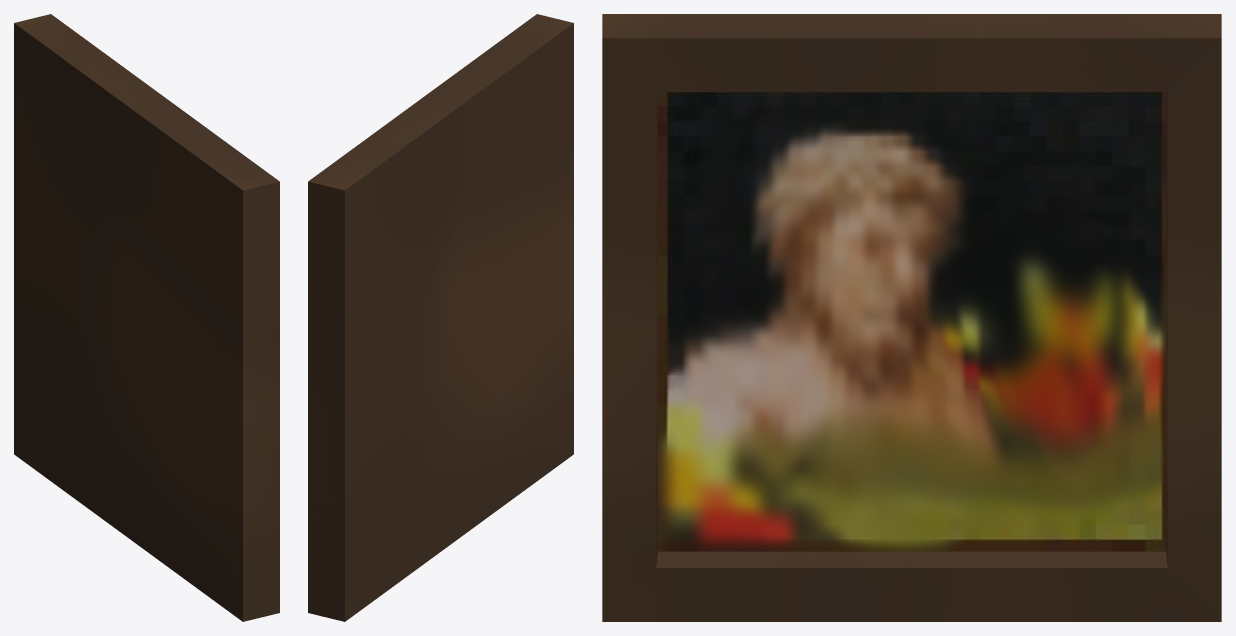
File: Cuadro4.fbx
3 renders of one model, left to right at view 1: azimuth 30°, elevation 25°; view 2: azimuth 150°, elevation 25°; view 3: azimuth 270°, elevation 25°, orthographic. The views are drawn at different scales.
Parts seen in each view (by area): view 1: Cube; view 2: Cube; view 3: Cube.
Boxes of the visible parts, x1,y1,x2,y2 form: Cube: (14, 14, 279, 621); Cube: (308, 14, 573, 621); Cube: (602, 14, 1221, 621).
Bounding box in the file's own units: 18.62 × 208 × 200.
